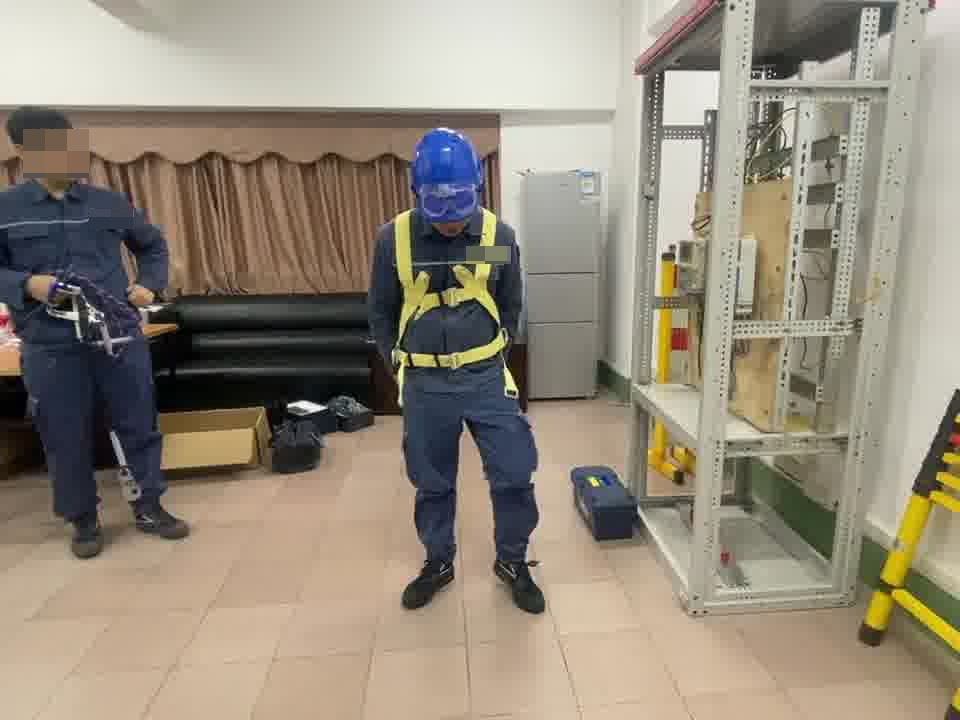downsuit: (400, 387, 543, 563), (22, 348, 170, 517)
halt: (409, 129, 486, 229)
hand: (22, 272, 60, 302), (127, 279, 157, 304)
person: (365, 126, 551, 610), (1, 110, 190, 547)
safebelt: (377, 200, 521, 403)
unhalt: (4, 105, 82, 186)
upsuit: (371, 207, 527, 370), (1, 181, 166, 330)
